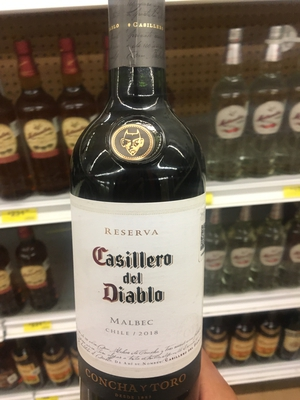casillero del diablo malbec: (60, 2, 224, 400)
